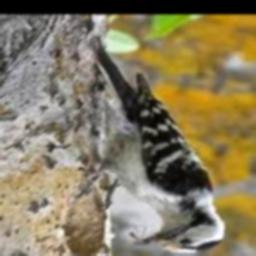Woodpecker: (95, 43, 226, 254)
